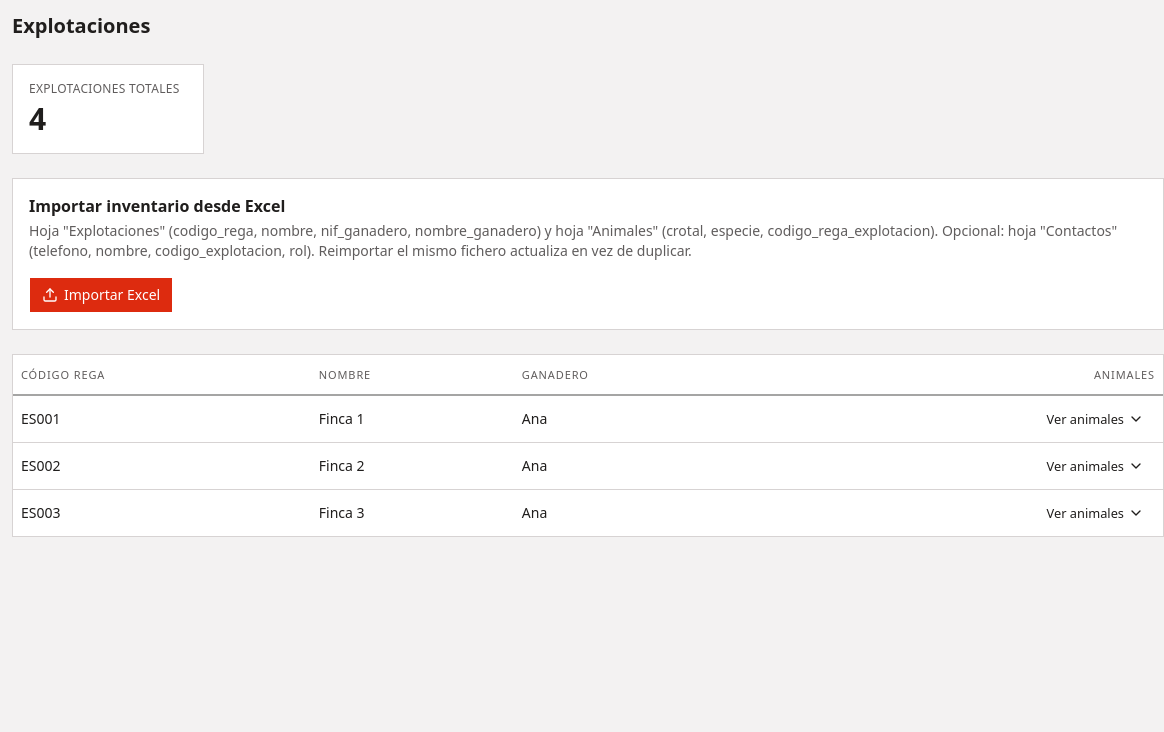
Scenario: ExplotacionesPage: 'Ver animales' por fila (H1-A) › alterna aria-expanded y pinta el panel en la fila justo debajo de la suya, a todo el ancho
Expected: the text "ES002" is shown, [13,442,311,490]
Click the button with aria-label "Ver animales de ES002" at (1095, 466), box [1036,451,1155,481]
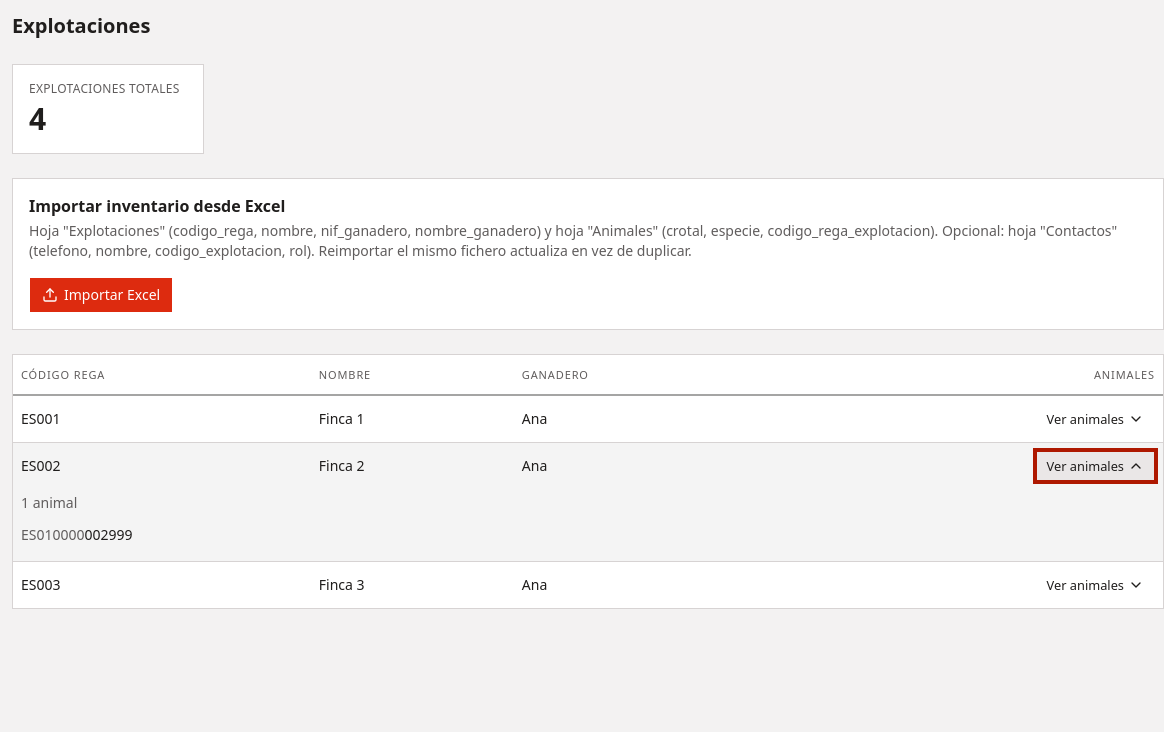
Expected: the button with aria-label "Ver animales de ES002" is expanded
Expected: the list named "Crotales" reads "ES010000002999", [21,525,133,544]
Click the button with aria-label "Ver animales de ES002" at (1095, 466), box [1036,451,1155,481]
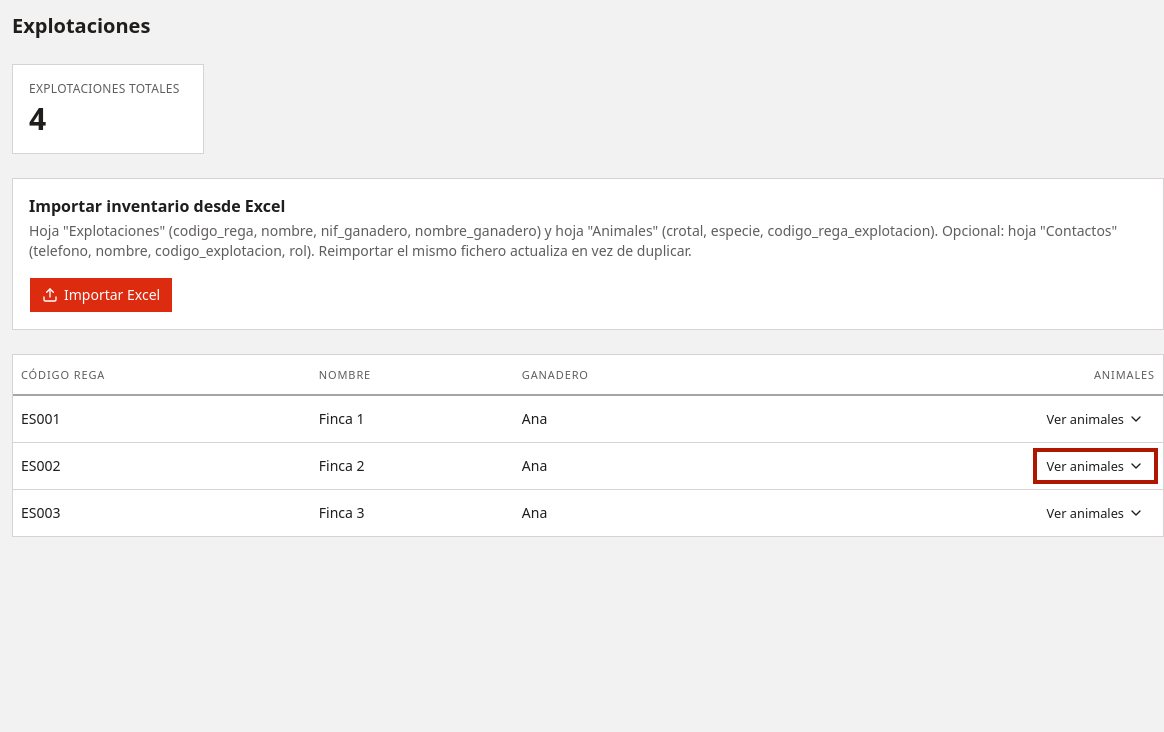
Expected: the button with aria-label "Ver animales de ES002" is collapsed, [1036,451,1155,481]
Expected: the list "Crotales" is gone
